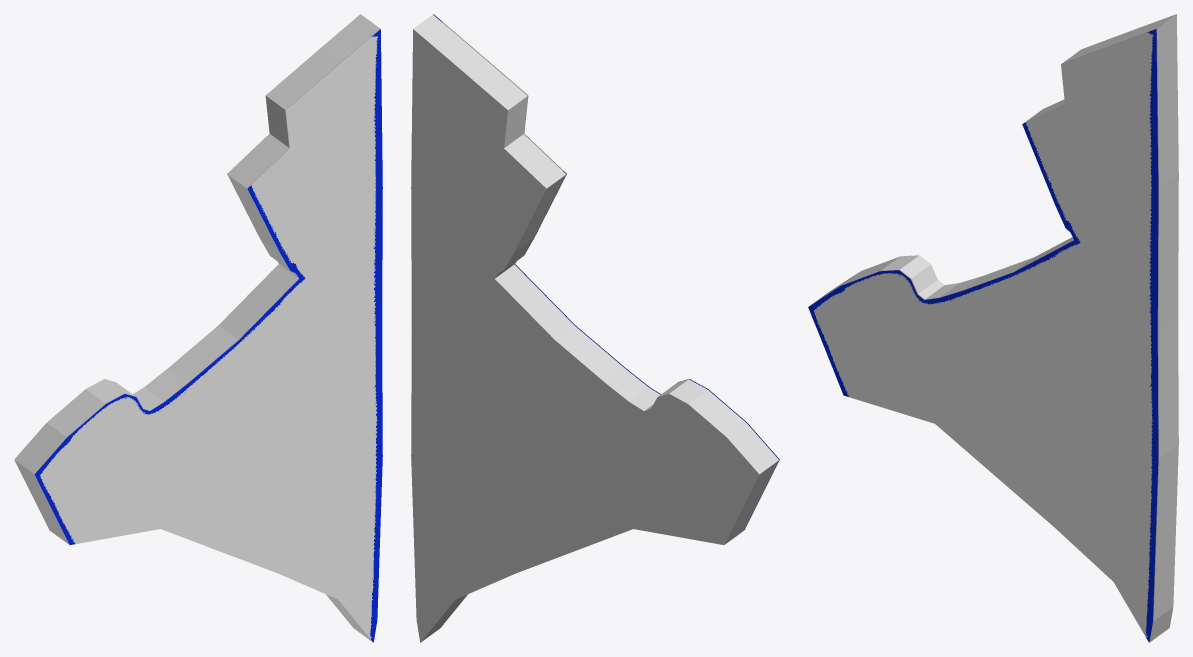
3 views of the same model, side by side, from view 1: azimuth 30°, elevation 25°; view 2: azimuth 150°, elevation 25°; view 3: azimuth 330°, elevation 25° (orthographic).
Visible parts, largest first — view 1: Out_3_1, Out_3_0; view 2: Out_3_0, Out_3_1; view 3: Out_3_1, Out_3_0.
Part boxes in pixels (<box>): Out_3_1: <box>34,29,382,642</box>; Out_3_0: <box>14,14,380,641</box>; Out_3_0: <box>411,14,778,642</box>; Out_3_1: <box>433,14,779,626</box>; Out_3_1: <box>808,29,1158,642</box>; Out_3_0: <box>810,14,1178,642</box>.
Size of the model in its own units: 5.09 by 8.55 by 0.515.
2 materials, 1 textured.
